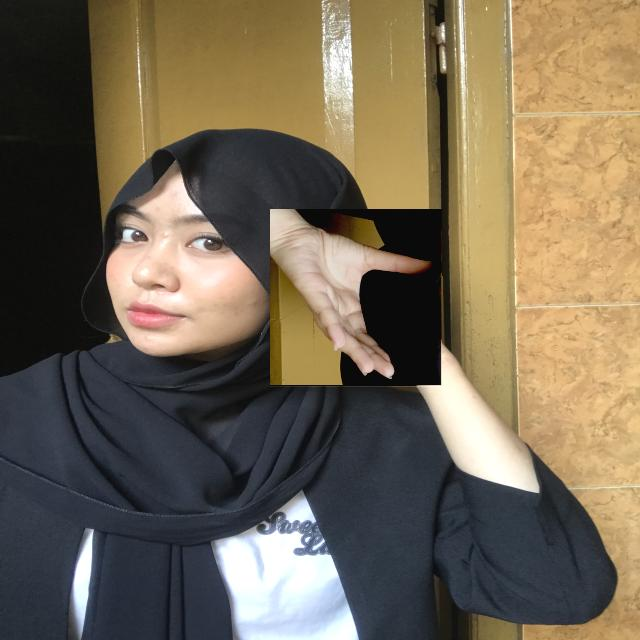mendengar: (270, 210, 442, 388)
